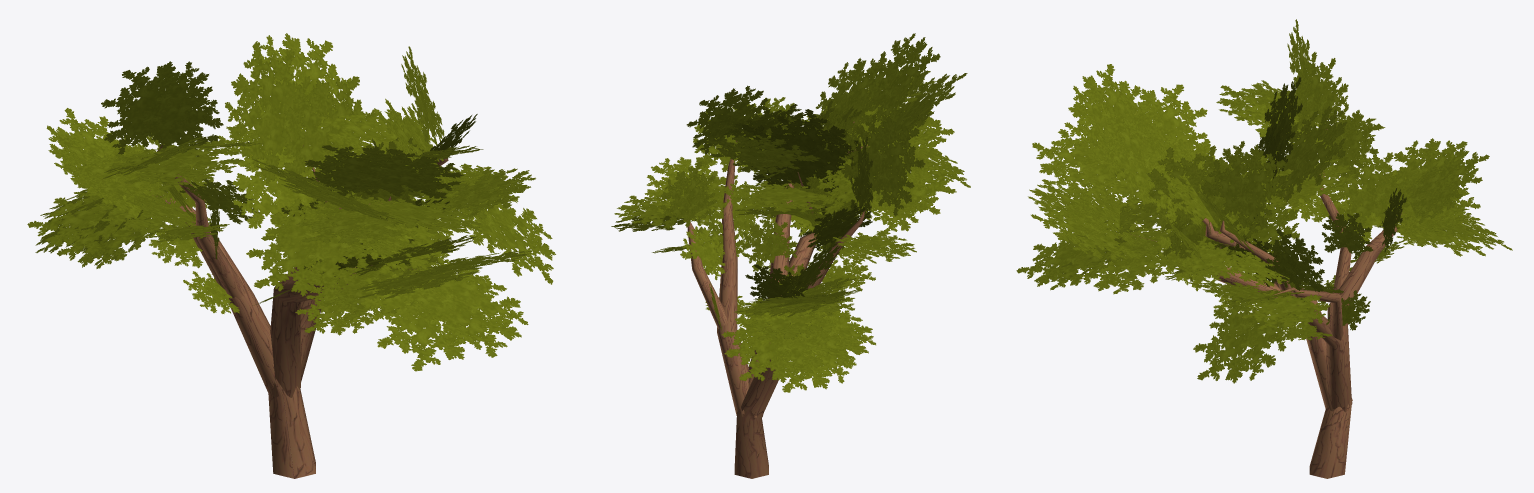
The model's file is CrookedBush.fbx.
3 renders of one model, left to right at view 1: azimuth 30°, elevation 25°; view 2: azimuth 150°, elevation 25°; view 3: azimuth 270°, elevation 25°, orthographic. The views are drawn at different scales.
Visible parts, largest first — view 1: CrookedBushLeaves_LOD0, CrookedBush_LOD0; view 2: CrookedBushLeaves_LOD0, CrookedBush_LOD0; view 3: CrookedBushLeaves_LOD0, CrookedBush_LOD0.
Boxes of the visible parts, x1=… form: CrookedBushLeaves_LOD0: x1=27, y1=33, x2=555, y2=371; CrookedBush_LOD0: x1=150, y1=144, x2=448, y2=478; CrookedBushLeaves_LOD0: x1=611, y1=33, x2=970, y2=392; CrookedBush_LOD0: x1=687, y1=121, x2=867, y2=478; CrookedBushLeaves_LOD0: x1=1016, y1=19, x2=1512, y2=383; CrookedBush_LOD0: x1=1130, y1=129, x2=1404, y2=478.
Size of what is drawn, in the model's own units: 92.26 by 90.3 by 108.
